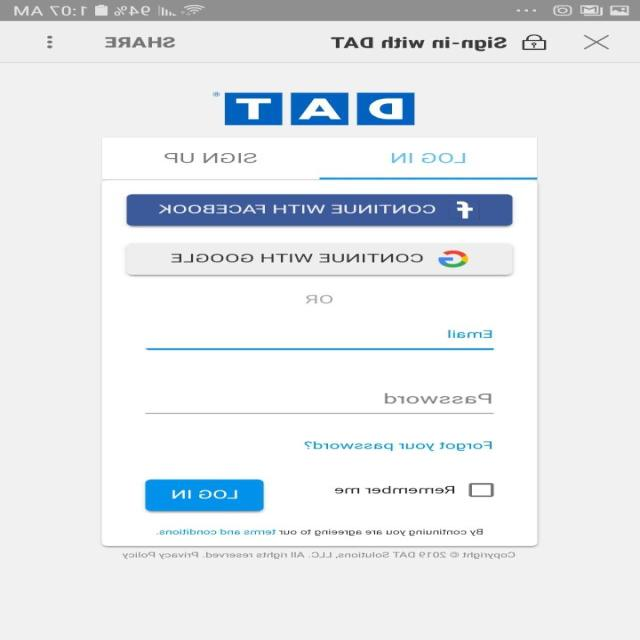EditText: (145, 392, 495, 414), (145, 329, 495, 350)
Icon: (583, 34, 610, 50), (522, 34, 546, 50), (47, 32, 56, 49)
Image: (212, 92, 416, 125)
Text: (122, 551, 516, 559), (330, 36, 508, 52), (156, 528, 484, 536), (304, 440, 492, 451), (384, 392, 492, 403), (335, 485, 455, 494), (164, 153, 258, 163), (391, 152, 466, 164), (105, 36, 177, 48), (448, 329, 492, 338), (306, 294, 334, 304)
TextButton: (127, 242, 514, 275), (127, 194, 513, 226), (146, 479, 265, 511)
